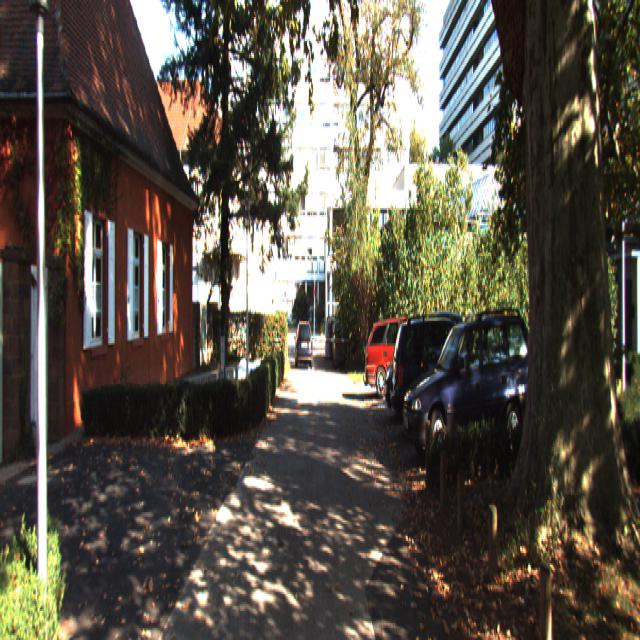Car: (398, 308, 542, 470), (390, 311, 504, 438), (384, 306, 474, 422), (366, 311, 444, 397), (297, 319, 313, 370)
